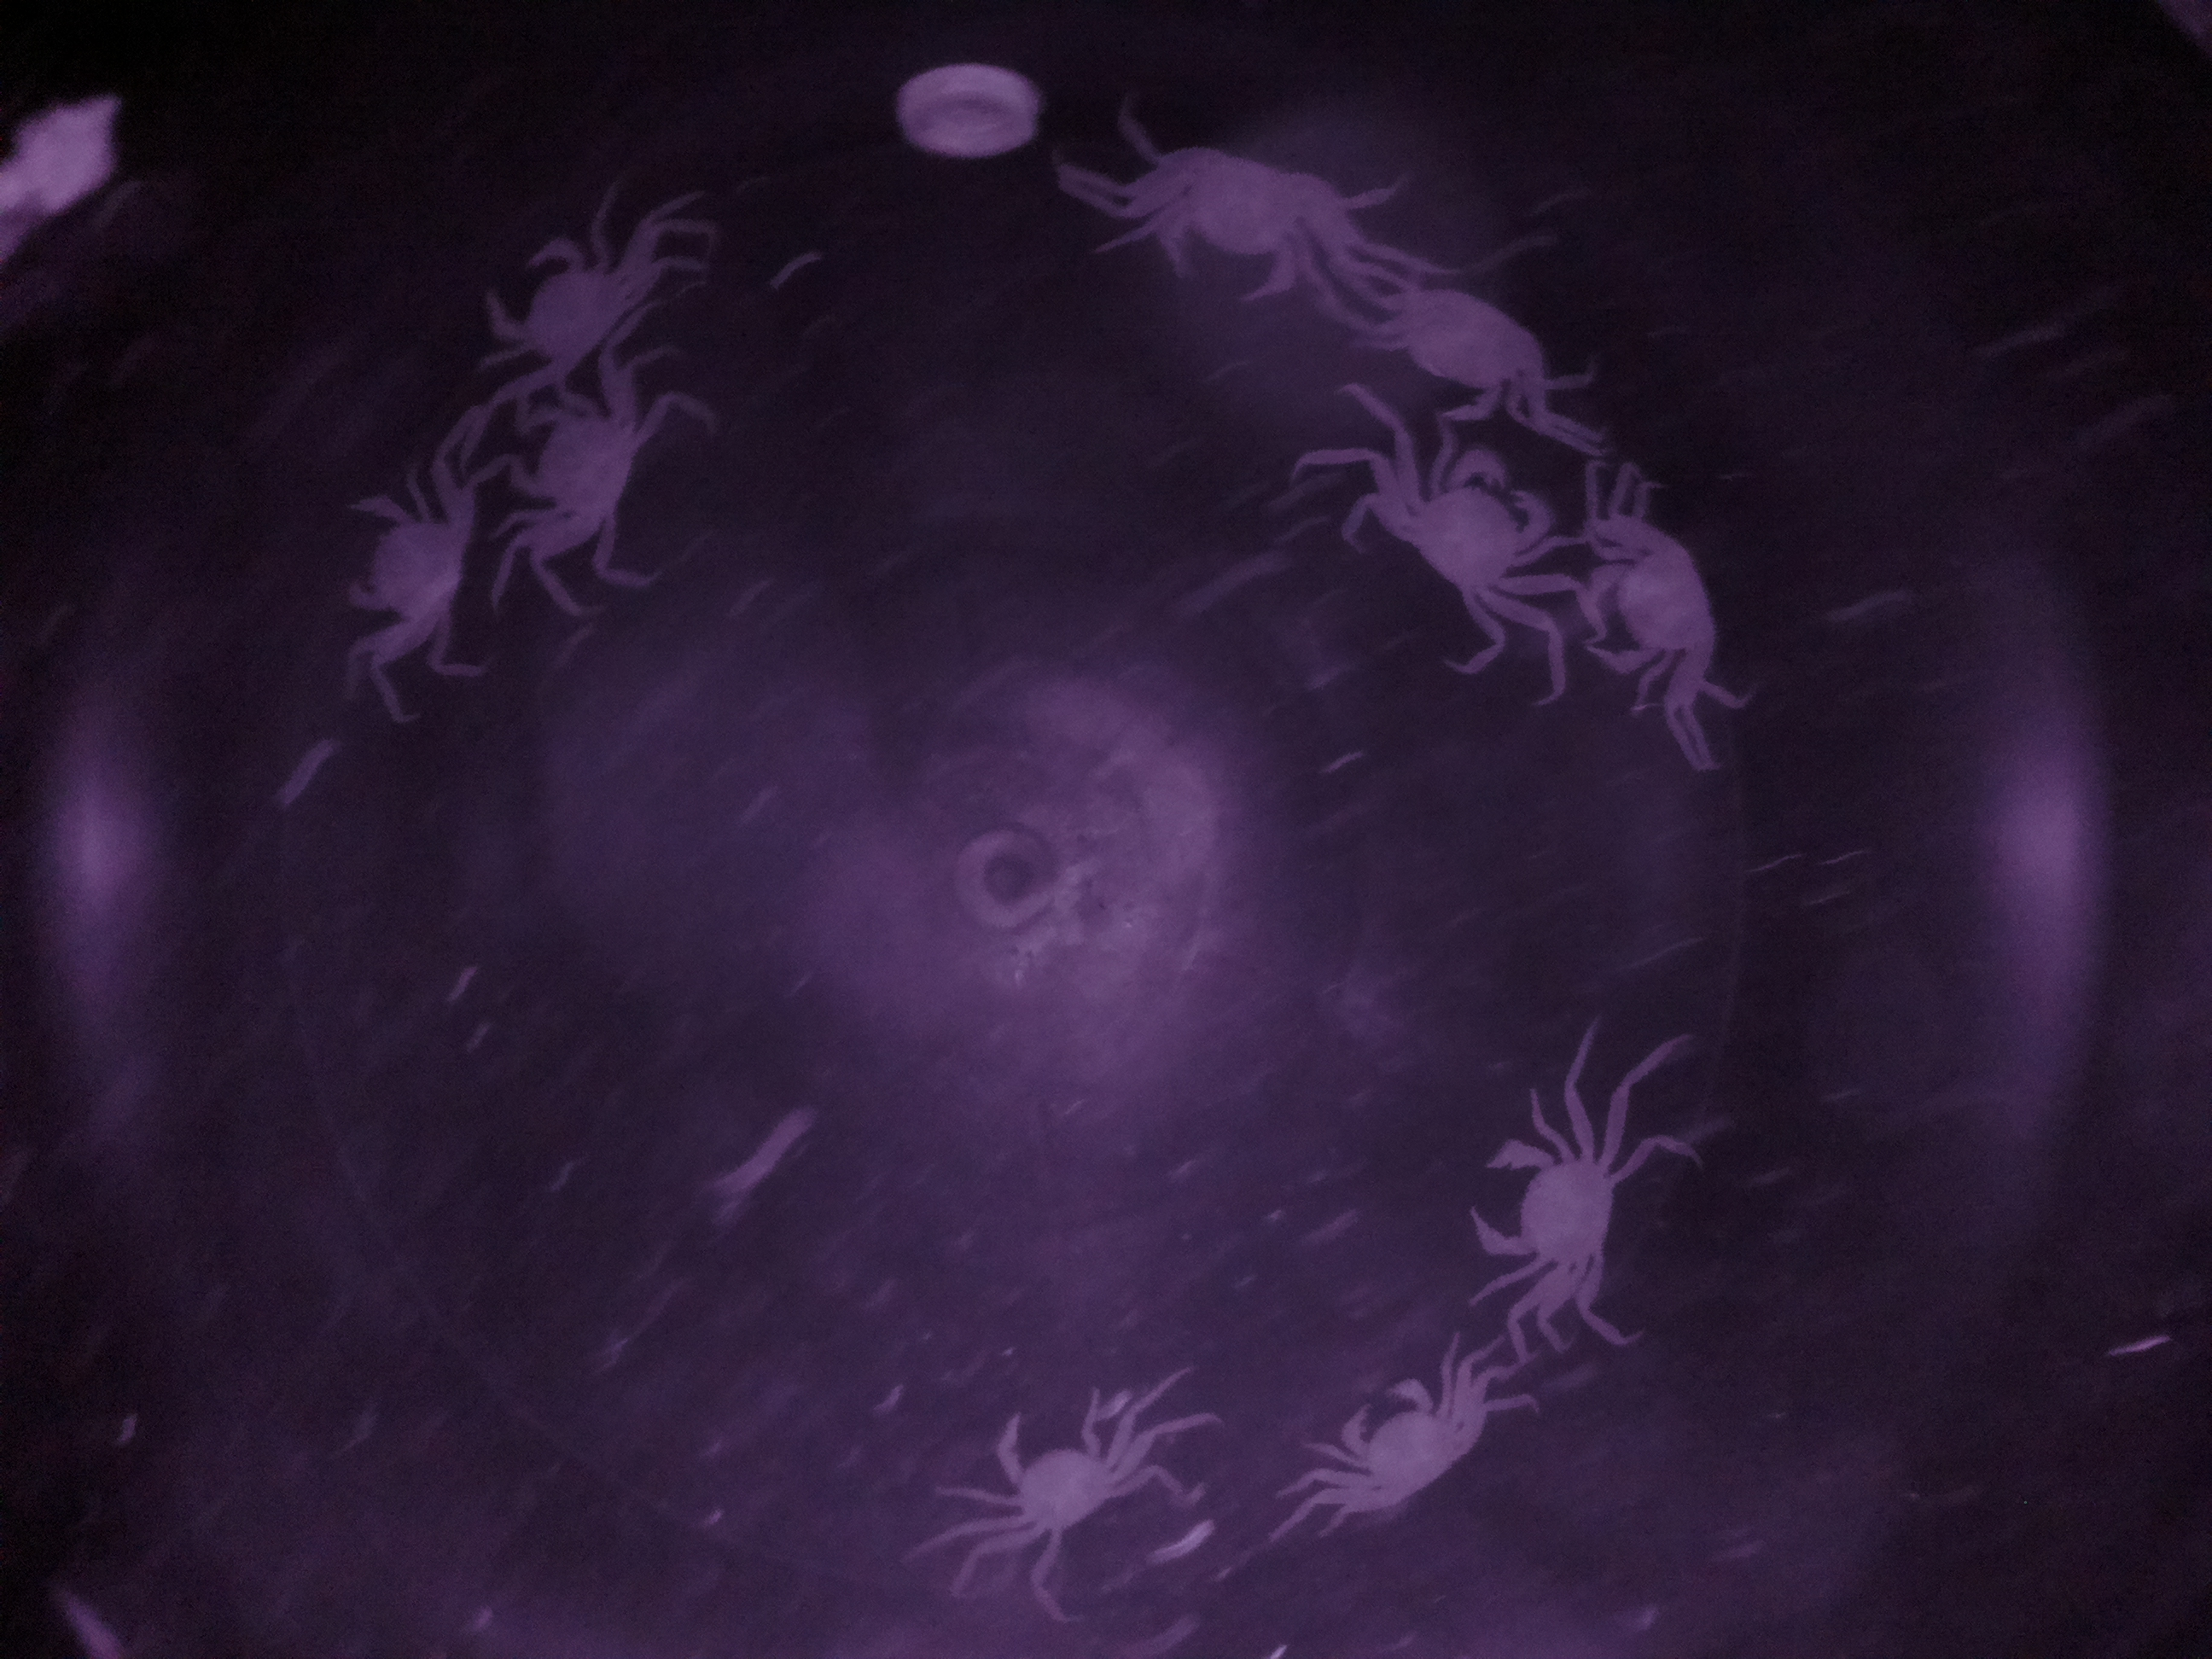Crab: (1104, 115, 1350, 331), (1454, 1100, 1655, 1307), (1566, 486, 1745, 706), (1374, 432, 1555, 636), (455, 220, 665, 392), (975, 1375, 1155, 1565), (1306, 1354, 1491, 1535), (334, 467, 498, 650)
